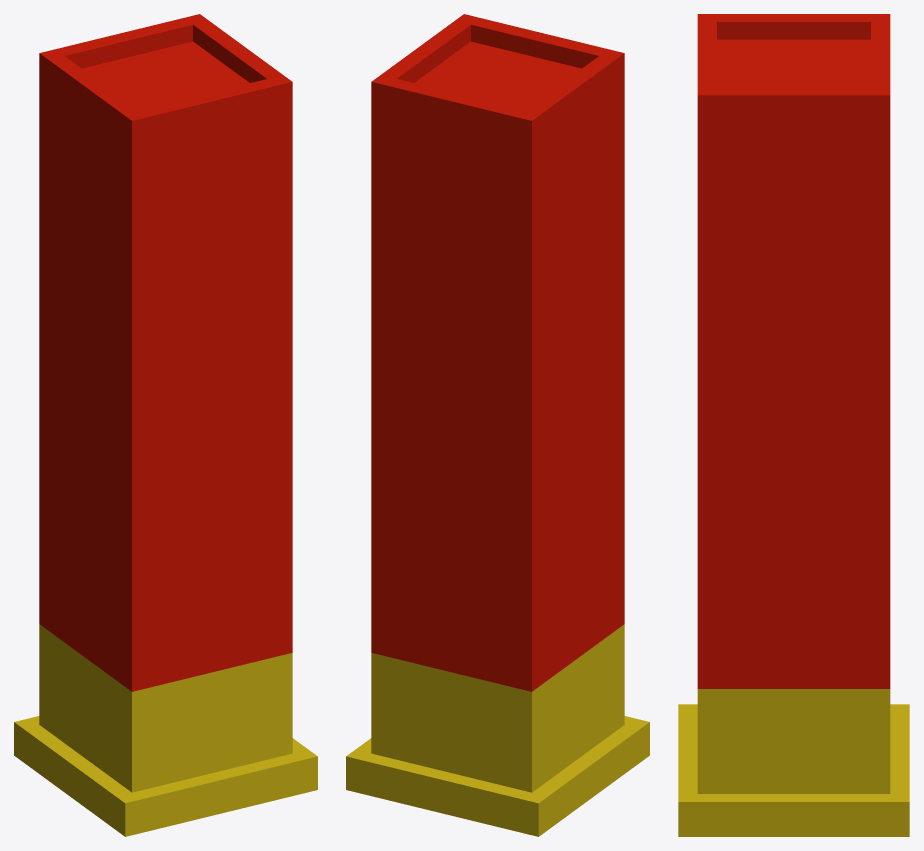
The model's file is shotgunShell.fbx.
3 views of the same model, side by side, from view 1: azimuth 30°, elevation 25°; view 2: azimuth 150°, elevation 25°; view 3: azimuth 270°, elevation 25° (orthographic). The views are drawn at different scales.
Visible parts, largest first — view 1: shotgunShell_base; view 2: shotgunShell_base; view 3: shotgunShell_base.
Part boxes in pixels (<box>): shotgunShell_base: <box>14,14,317,836</box>; shotgunShell_base: <box>346,14,649,836</box>; shotgunShell_base: <box>678,14,909,836</box>.
Size of the model in its own units: 3.6 by 12.6 by 3.6.
